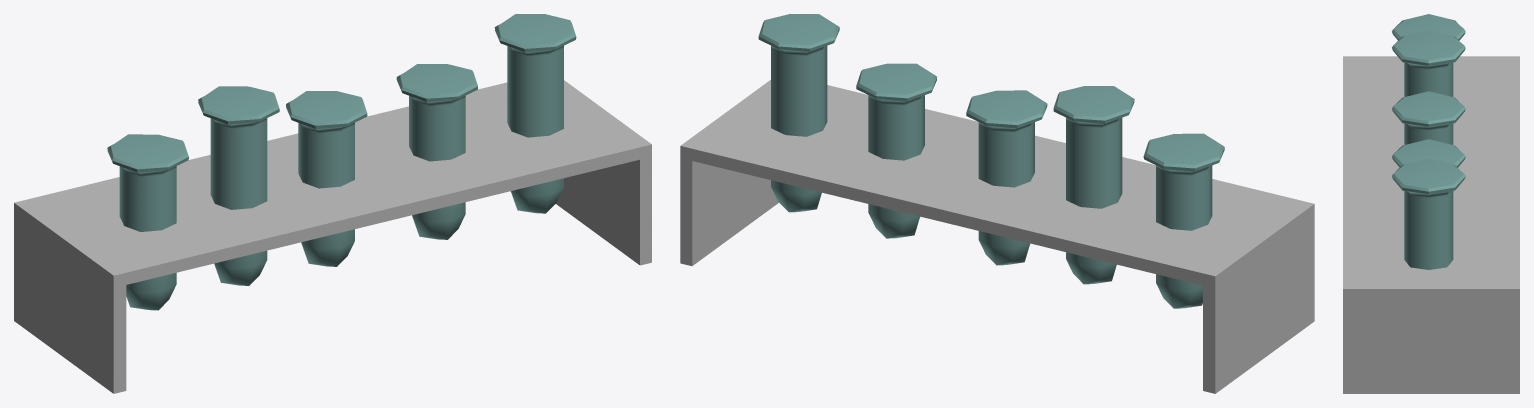
The model's file is FlaskTabs.fbx.
3 renders of one model, left to right at view 1: azimuth 30°, elevation 25°; view 2: azimuth 150°, elevation 25°; view 3: azimuth 270°, elevation 25°, orthographic. The views are drawn at different scales.
Visible parts, largest first — view 1: pCube1, Tools1_Tube0; view 2: pCube1, Tools1_Tube0; view 3: pCube1, Tools1_Tube0.
Part boxes in pixels (<box>): pCube1: <box>14,80,651,393</box>; Tools1_Tube0: <box>107,14,576,310</box>; pCube1: <box>680,80,1314,393</box>; Tools1_Tube0: <box>758,14,1224,308</box>; pCube1: <box>1343,56,1519,393</box>; Tools1_Tube0: <box>1392,14,1465,269</box>.
Bounding box in the file's own units: 108 × 41.55 × 34.64.
